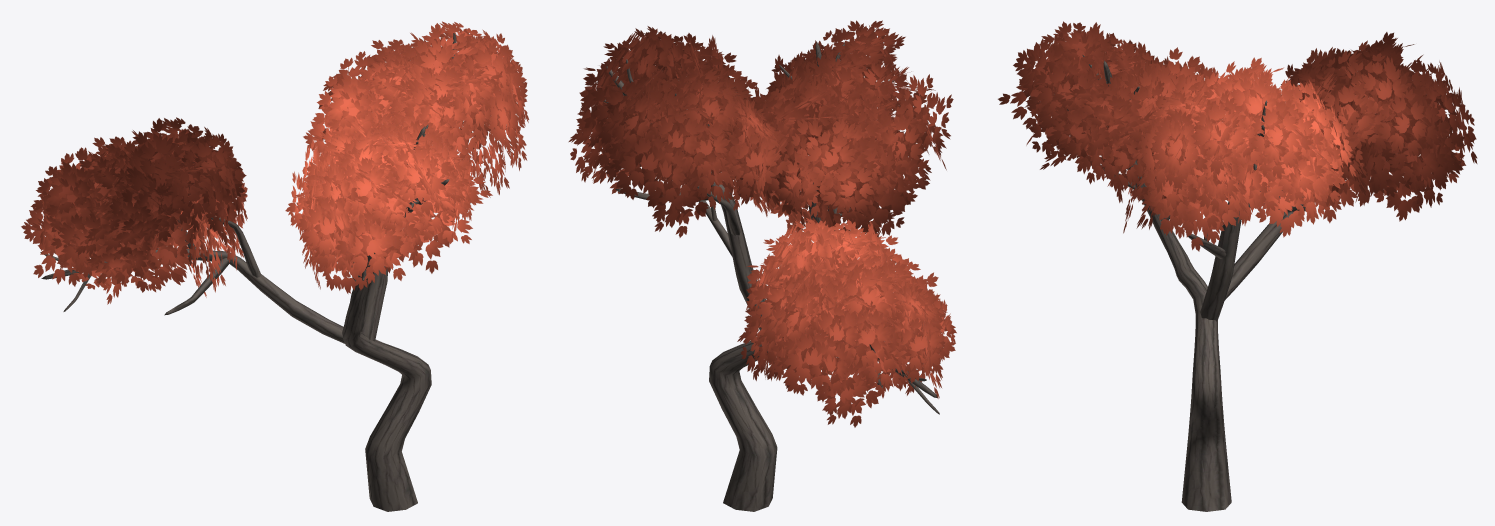
Rendered from MapleTree_2.glb.
The picture shows the model from 3 angles, left to right: view 1: azimuth 30°, elevation 25°; view 2: azimuth 150°, elevation 25°; view 3: azimuth 270°, elevation 25°; orthographic projection. The views are drawn at different scales.
Visible parts, largest first — view 1: MapleTree_2; view 2: MapleTree_2; view 3: MapleTree_2.
Part boxes in pixels (<box>): MapleTree_2: <box>21,21,529,511</box>; MapleTree_2: <box>568,20,956,511</box>; MapleTree_2: <box>998,21,1477,511</box>.
Size of the model in its own units: 6.7 by 6.71 by 6.24.
2 materials, 2 textured.
